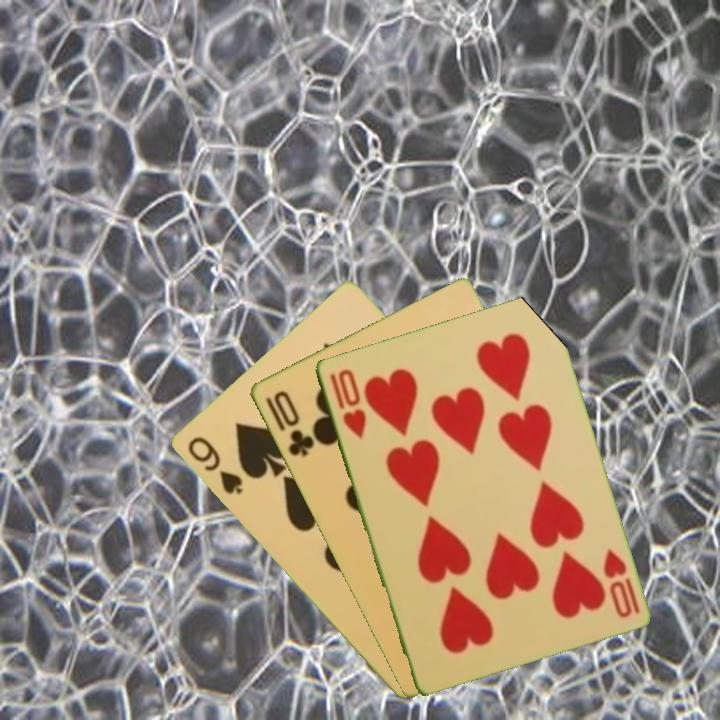10c: (261, 386, 317, 460)
10h: (325, 365, 369, 442), (599, 545, 642, 621)
9s: (183, 432, 245, 498)
